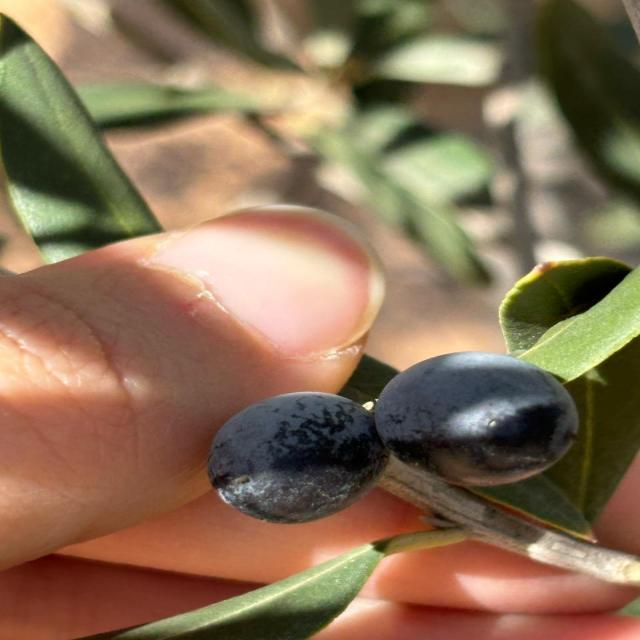Healthy: (375, 352, 579, 492), (208, 392, 389, 524)
